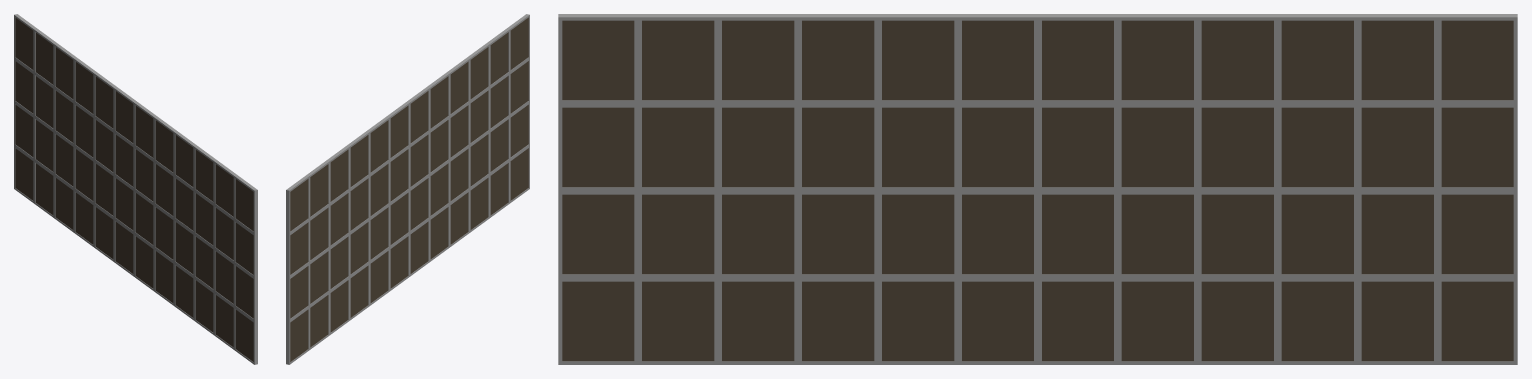
The model's file is window big.FBX.
3 views of the same model, side by side, from view 1: azimuth 30°, elevation 25°; view 2: azimuth 150°, elevation 25°; view 3: azimuth 270°, elevation 25° (orthographic). The views are drawn at different scales.
Visible parts, largest first — view 1: Object001, Plane001; view 2: Object001, Plane001; view 3: Object001, Plane001.
Part boxes in pixels (x1,y1,x2,y2): Object001: (15,17,253,361); Plane001: (14,14,257,364); Object001: (290,17,528,361); Plane001: (286,14,529,364); Object001: (562,20,1513,361); Plane001: (558,14,1517,364).
Size of the model in its own units: 0.04 by 2 by 5.
